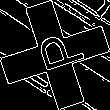P_W: (25, 30, 85, 80)
